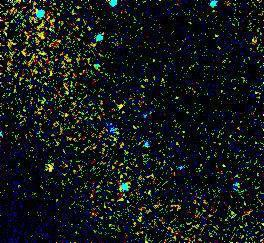star: (37, 151, 67, 181)
